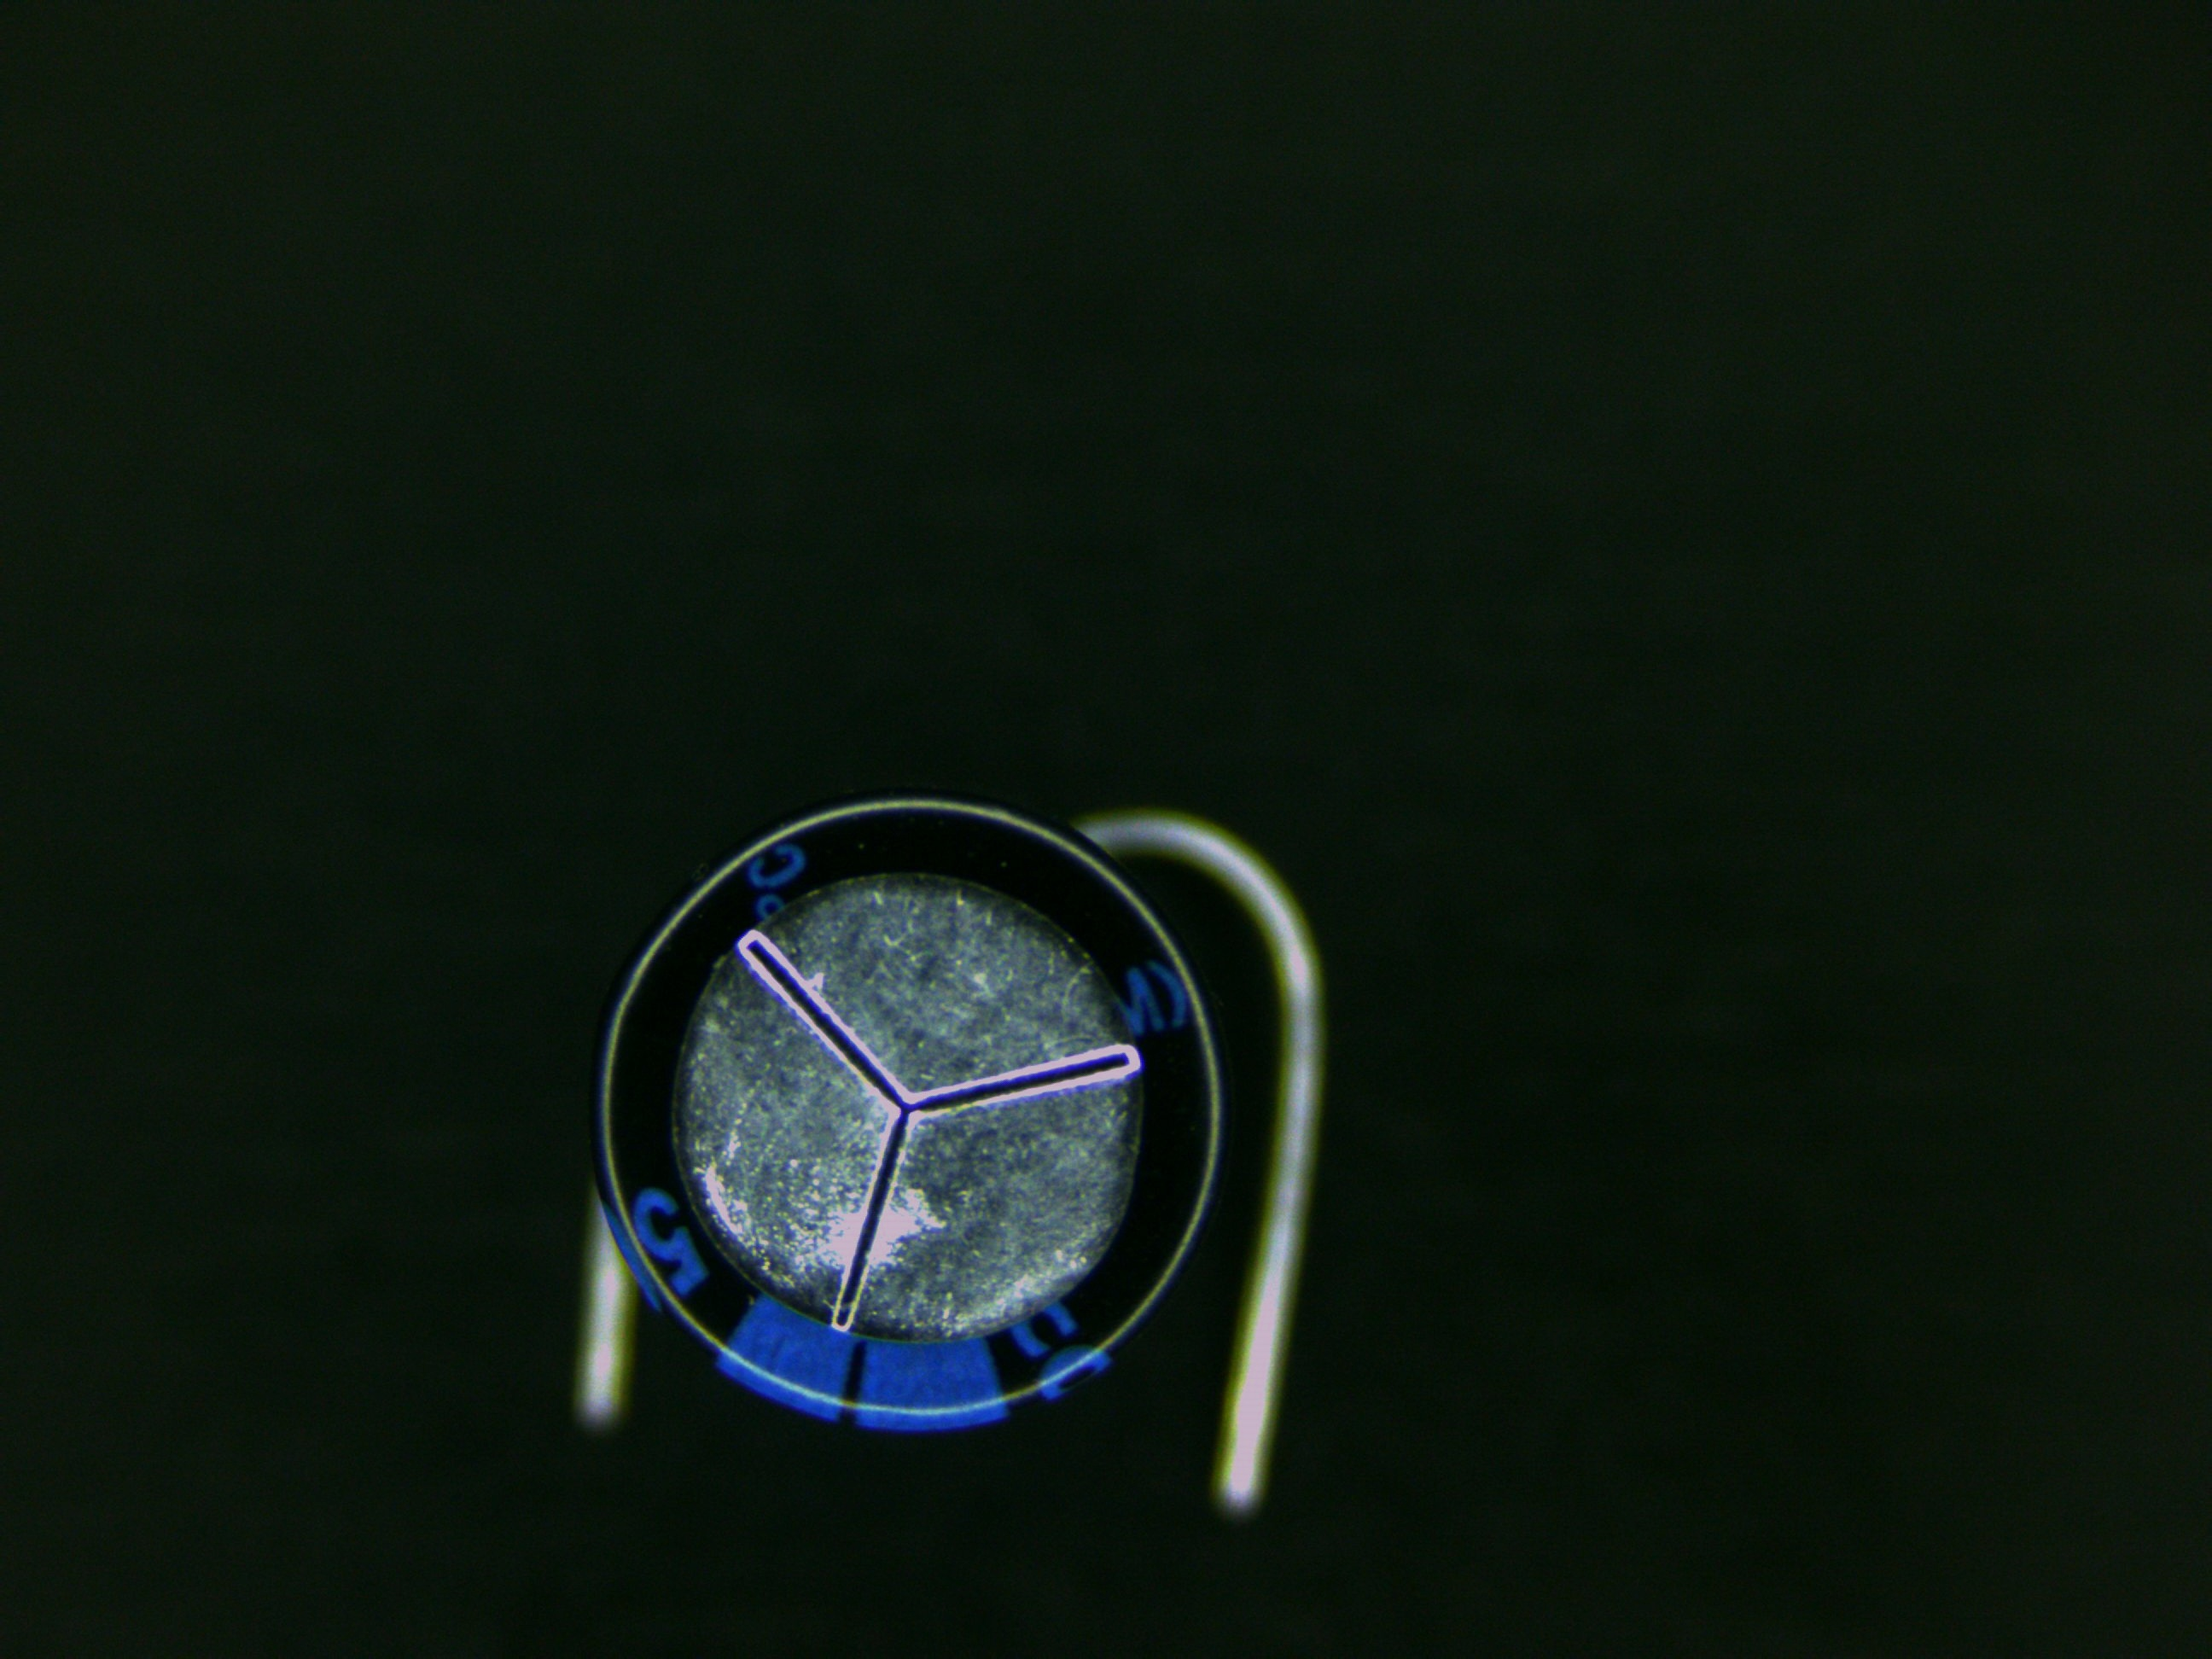c2: (592, 795, 1212, 1438)
